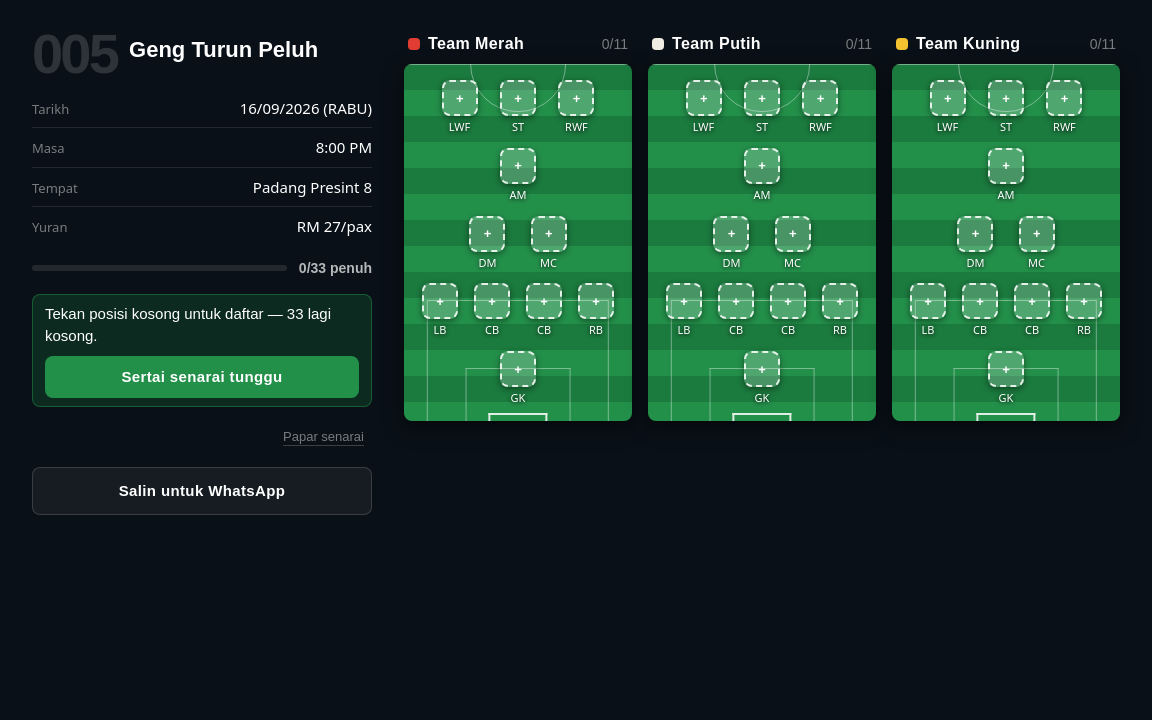
Test: SessionPage › refuses to submit without a phone
Click the button "+ GK" below "Team Merah" at (518, 378), box [485,351,551,405]
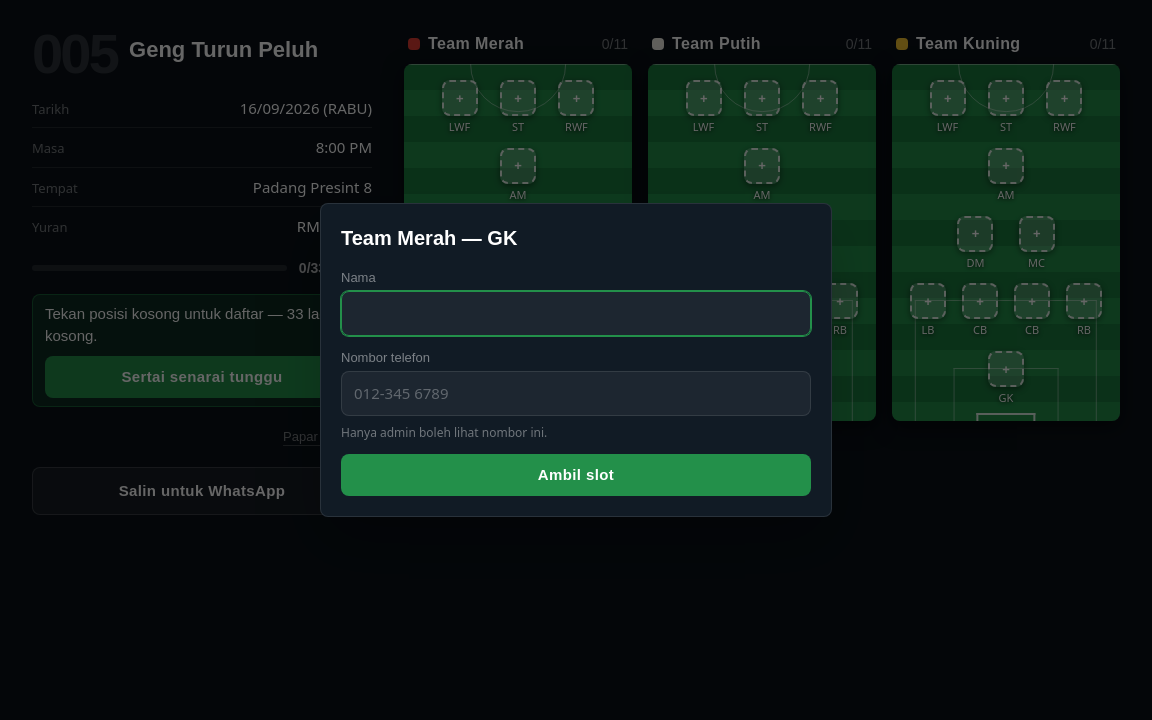
Type "Hazmi" into the field labelled "Nama" at (576, 314), box [341,291,811,336]
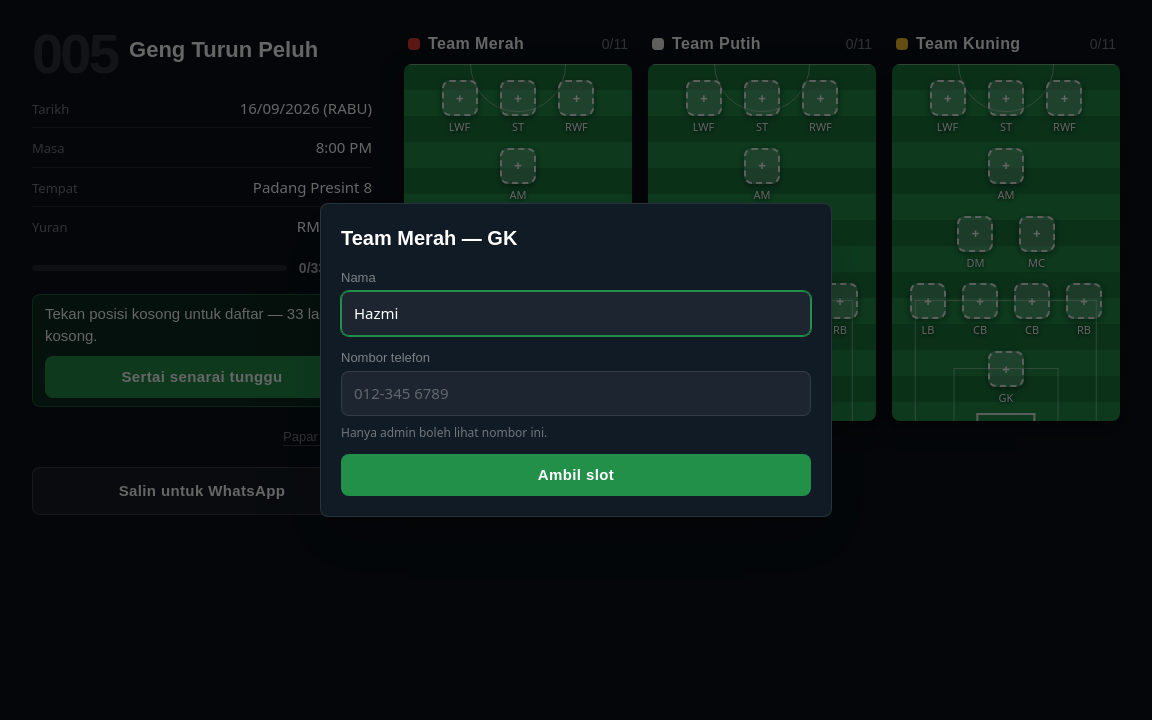
Click the button "Ambil slot" at (576, 475), box [341,454,811,496]
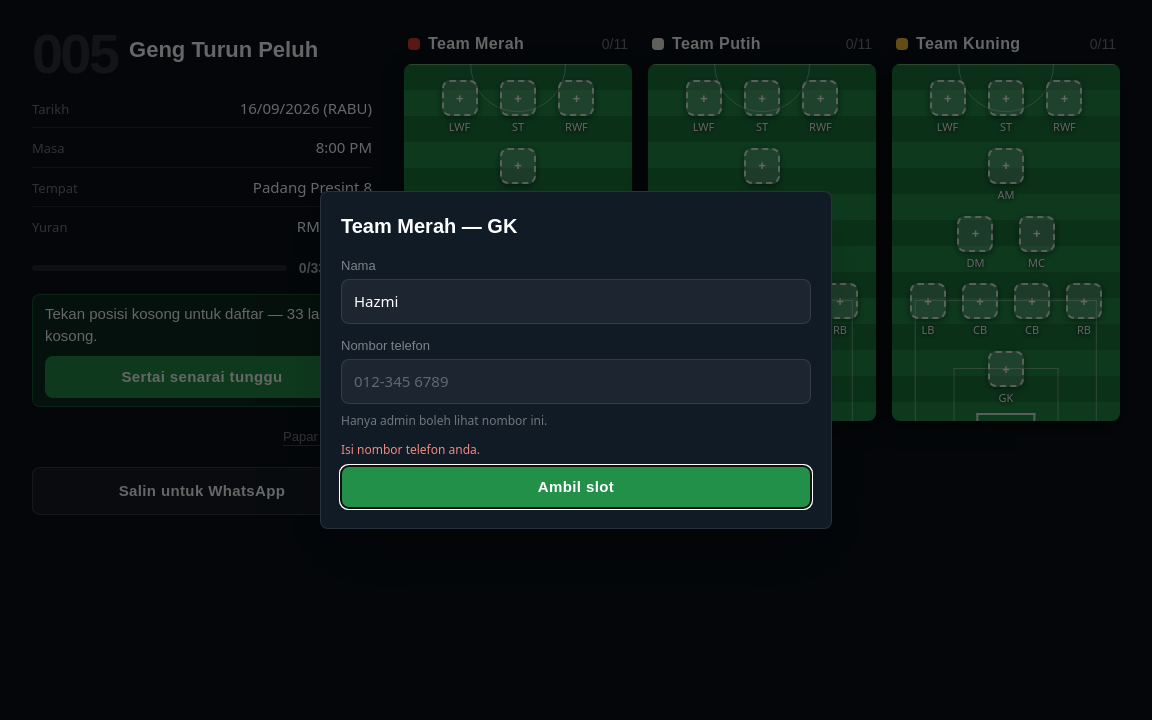
Result: the text "Isi nombor telefon anda." is shown at [341,441,480,458]
